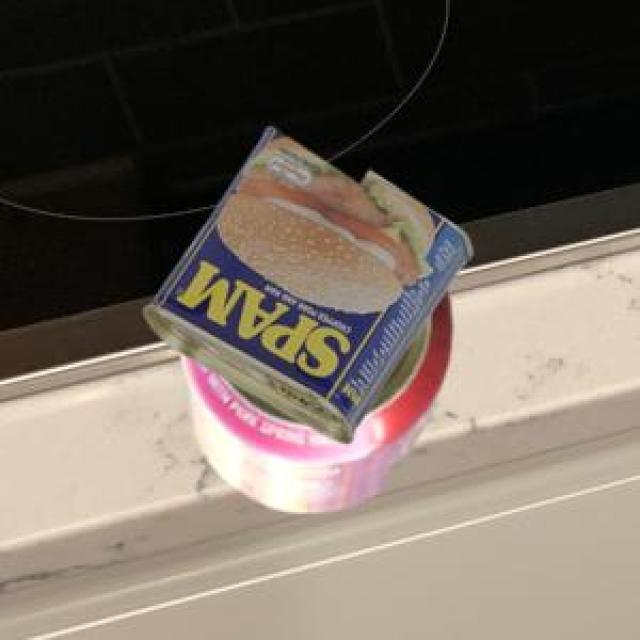Can: (140, 125, 468, 441), (178, 289, 449, 509)
